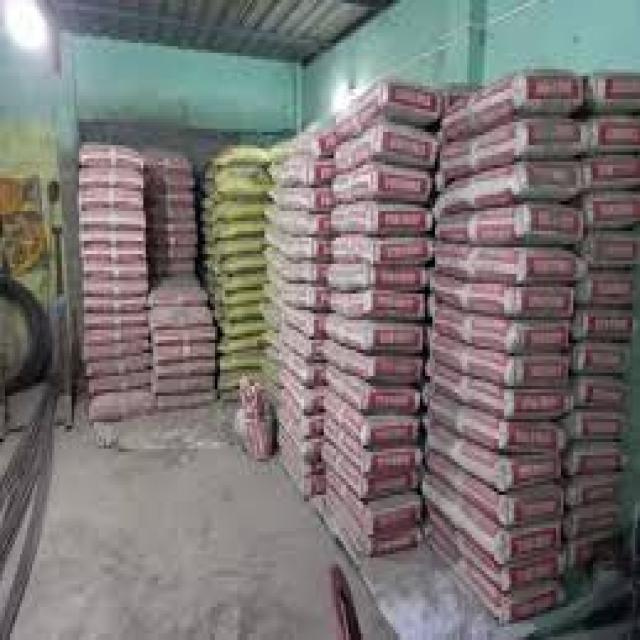cement_bag: (425, 475, 559, 565), (428, 512, 563, 596), (443, 73, 583, 138), (443, 120, 585, 181), (428, 434, 560, 495), (429, 339, 567, 392), (433, 373, 568, 424), (432, 404, 563, 455), (443, 162, 576, 212), (327, 491, 422, 559), (434, 308, 566, 355), (436, 278, 572, 320), (337, 81, 440, 136), (322, 444, 416, 502), (437, 245, 578, 282), (436, 208, 582, 241), (336, 125, 436, 172), (327, 402, 418, 448), (327, 374, 418, 416), (327, 344, 420, 385), (325, 319, 421, 356), (333, 167, 431, 202), (329, 204, 431, 235), (329, 263, 428, 294), (330, 234, 431, 264), (331, 292, 424, 317), (568, 443, 623, 481), (583, 154, 639, 191), (584, 270, 635, 308), (571, 500, 620, 539), (578, 343, 632, 378), (575, 310, 632, 342), (567, 472, 614, 510), (284, 394, 323, 439), (587, 231, 638, 265), (592, 117, 640, 153), (281, 439, 323, 480), (283, 350, 326, 387), (588, 194, 640, 224), (574, 410, 622, 442), (577, 380, 628, 410), (94, 369, 149, 396), (157, 389, 215, 414), (79, 187, 141, 210), (282, 185, 332, 213), (156, 323, 216, 346), (83, 340, 146, 361), (85, 277, 148, 297), (157, 356, 214, 378), (82, 151, 142, 171), (85, 210, 144, 230), (85, 310, 145, 329), (221, 236, 264, 259), (85, 231, 143, 247), (221, 200, 264, 221), (285, 239, 314, 264), (288, 313, 314, 340), (283, 264, 317, 282), (227, 306, 260, 324), (287, 217, 319, 235), (287, 287, 315, 307)
